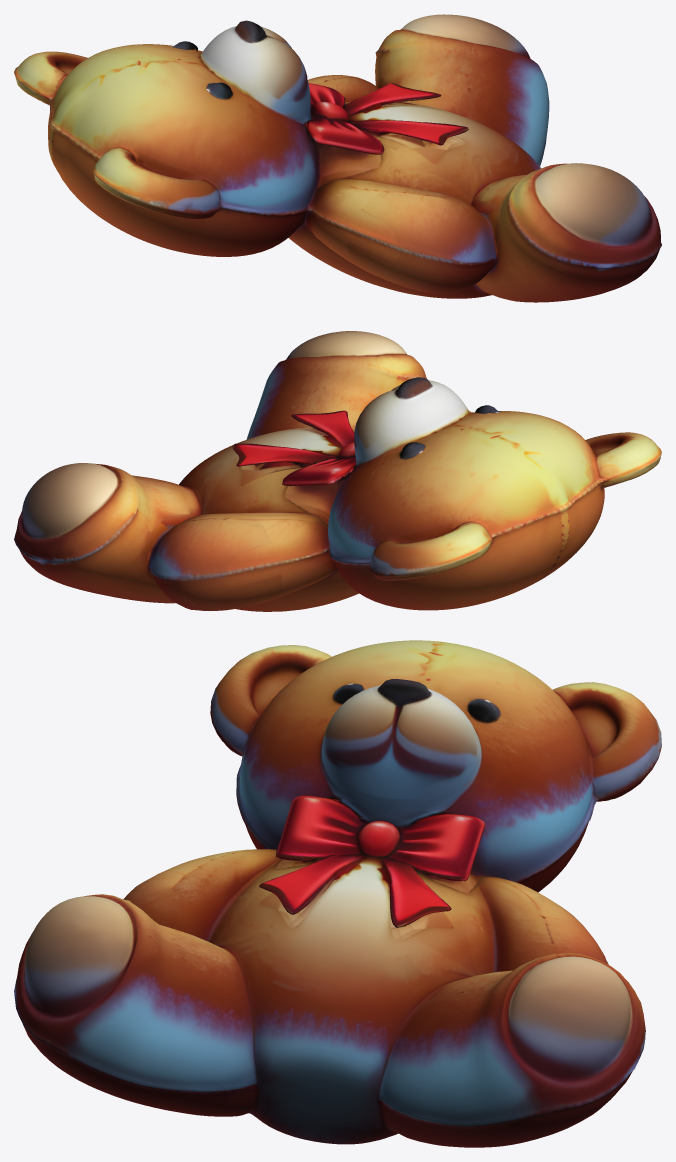
The model's file is Teddy Bear.fbx.
3 views of the same model, one above another, from view 1: azimuth 30°, elevation 25°; view 2: azimuth 150°, elevation 25°; view 3: azimuth 270°, elevation 25° (orthographic). The views are drawn at different scales.
Parts seen in each view (by area): view 1: Bear; view 2: Bear; view 3: Bear.
Part boxes in pixels (x1,y1,x2,y2): Bear: (14, 14, 661, 302); Bear: (14, 331, 661, 611); Bear: (14, 640, 661, 1147).
Size of the model in its own units: 70.53 by 35.24 by 61.13.
